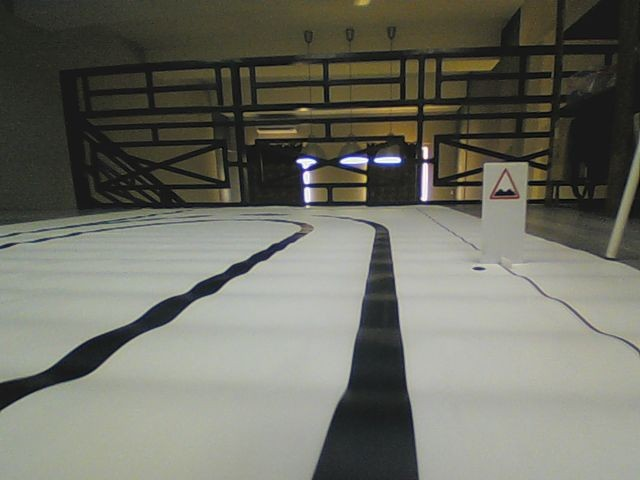Nerov: (489, 167, 520, 201)
